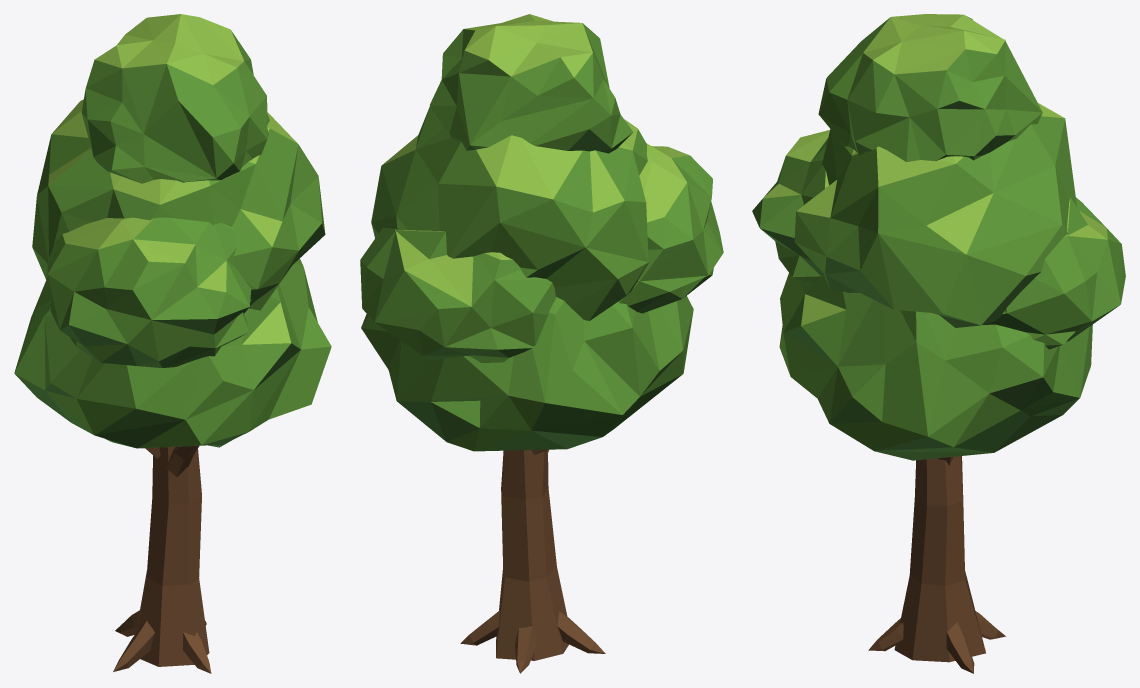
The model's file is Veg_Linde.fbx.
3 views of the same model, side by side, from view 1: azimuth 30°, elevation 25°; view 2: azimuth 150°, elevation 25°; view 3: azimuth 270°, elevation 25° (orthographic).
Visible parts, largest first — view 1: Veg_Linde; view 2: Veg_Linde; view 3: Veg_Linde.
Part boxes in pixels (bbox=[...]): Veg_Linde: bbox=[14, 14, 331, 673]; Veg_Linde: bbox=[360, 14, 723, 673]; Veg_Linde: bbox=[752, 14, 1125, 673].
Size of the model in its own units: 3.24 by 6.5 by 3.5.
